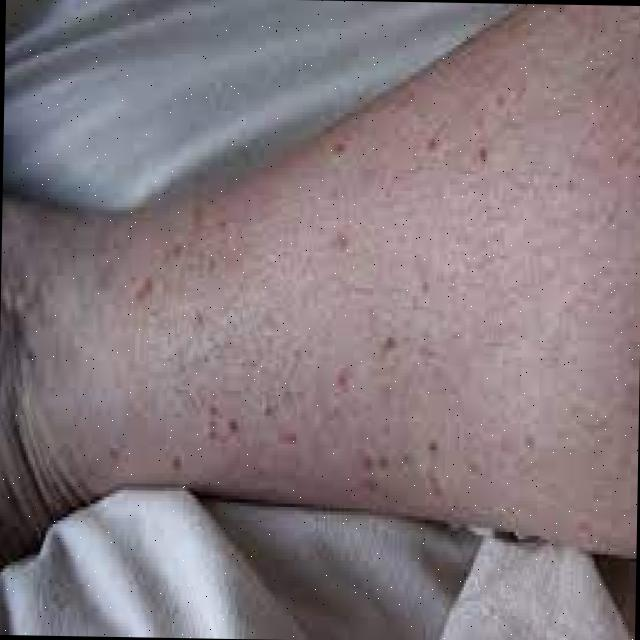kan emici bocekler: (276, 423, 311, 460)
